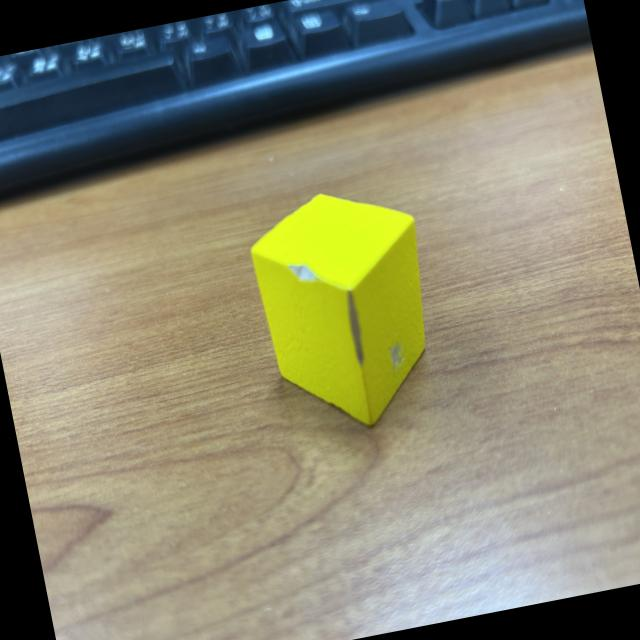broken: (242, 173, 452, 443)
